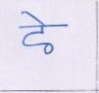e_matra: (21, 11, 46, 25)
